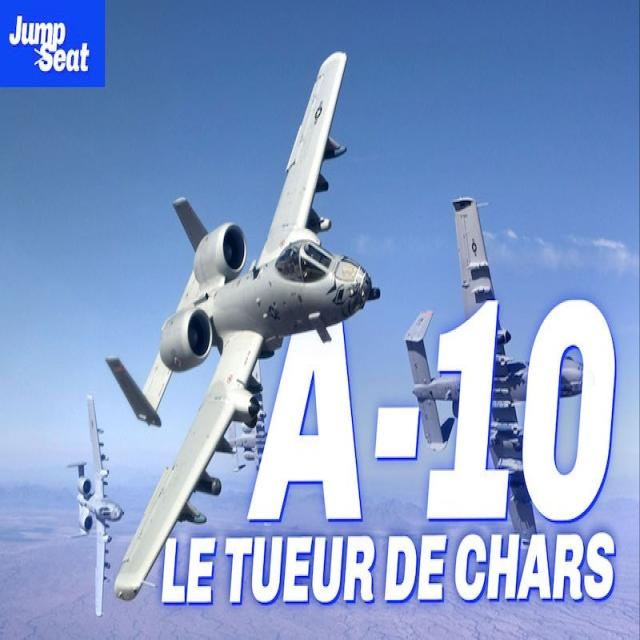A10: (105, 10, 393, 640), (45, 378, 126, 630)
